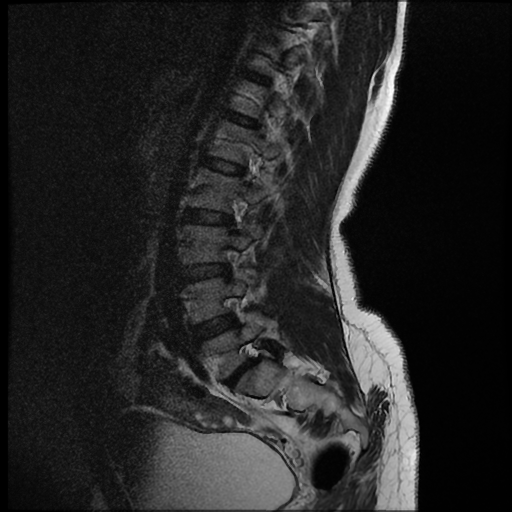RFS0: (217, 287, 254, 337), (215, 239, 249, 285), (219, 190, 253, 235)
